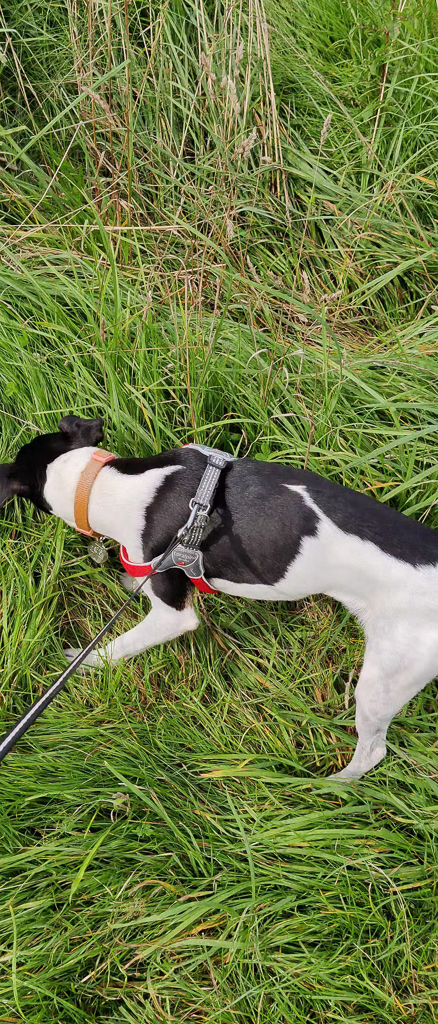Dog: (0, 402, 438, 809)
